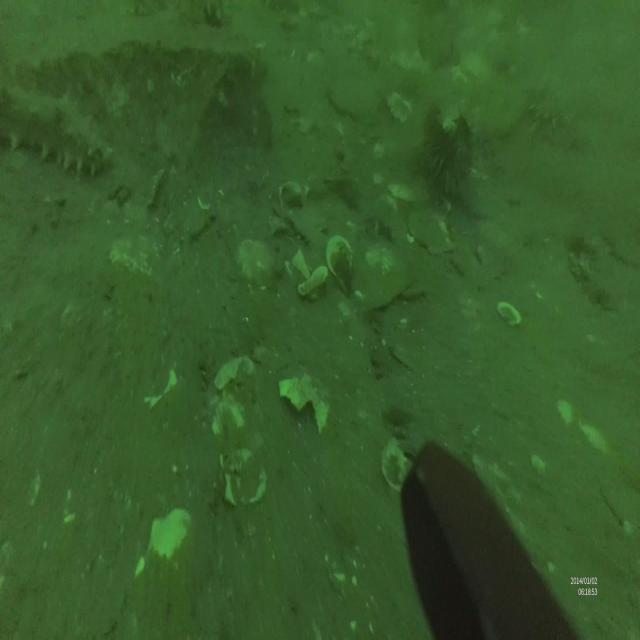holothurian: (0, 87, 112, 173)
